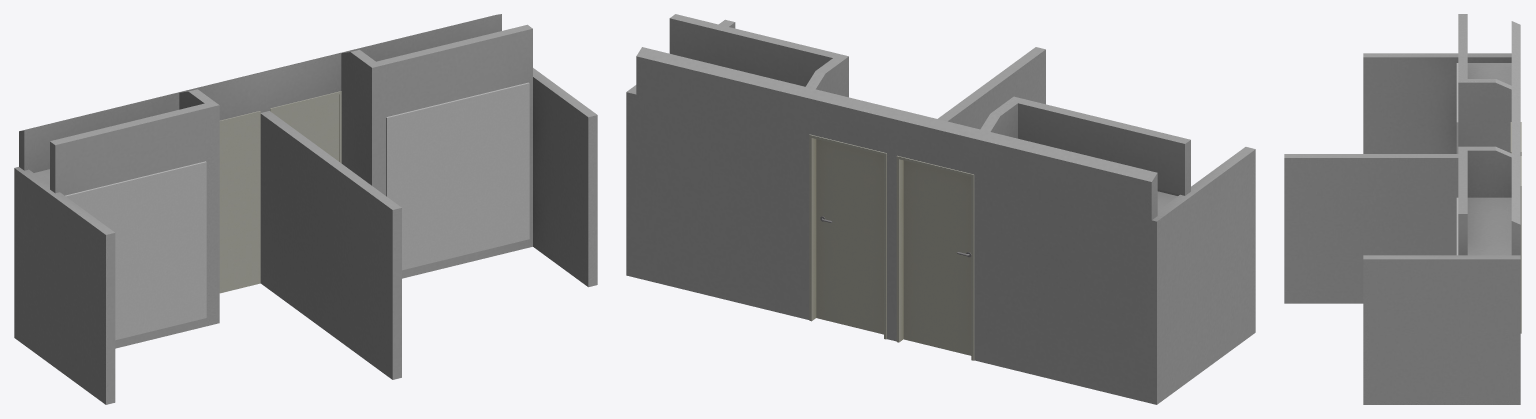
The picture shows the model from 3 angles, left to right: view 1: azimuth 30°, elevation 25°; view 2: azimuth 150°, elevation 25°; view 3: azimuth 270°, elevation 25°; orthographic projection. The views are drawn at different scales.
Parts seen in each view (by area): view 1: OP1; view 2: OP1; view 3: OP1.
Boxes of the visible parts, box(x1,y1,x2,y2) form: OP1: box(14, 14, 597, 404); OP1: box(626, 14, 1255, 404); OP1: box(1284, 14, 1521, 404).
Size of the model in its own units: 5511 by 2335 by 2685.
Materials: 4 (4 with a texture image).
